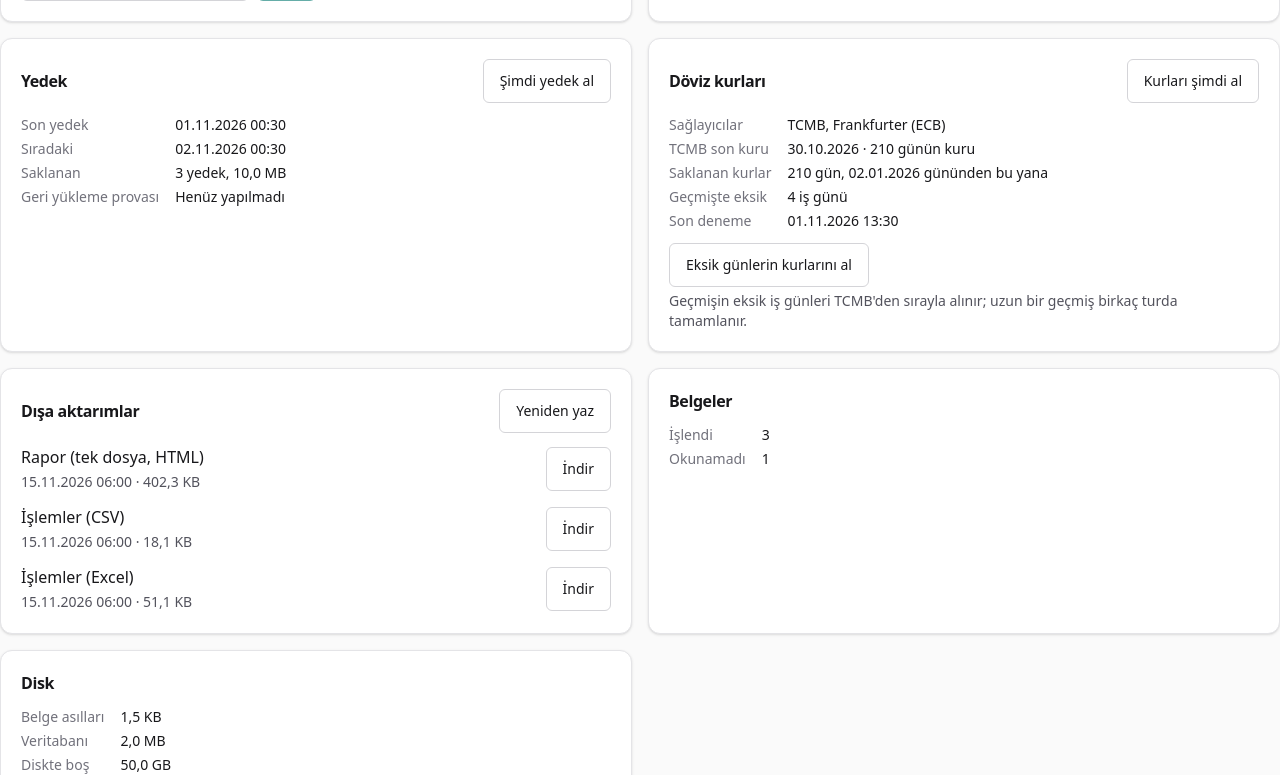
Test: SystemPage › offers the exports the last analysis wrote, each to download, and makes them again on request
(page scrolled)
Click the button "Yeniden yaz".
click(555, 411)  # box [499,389,611,433]
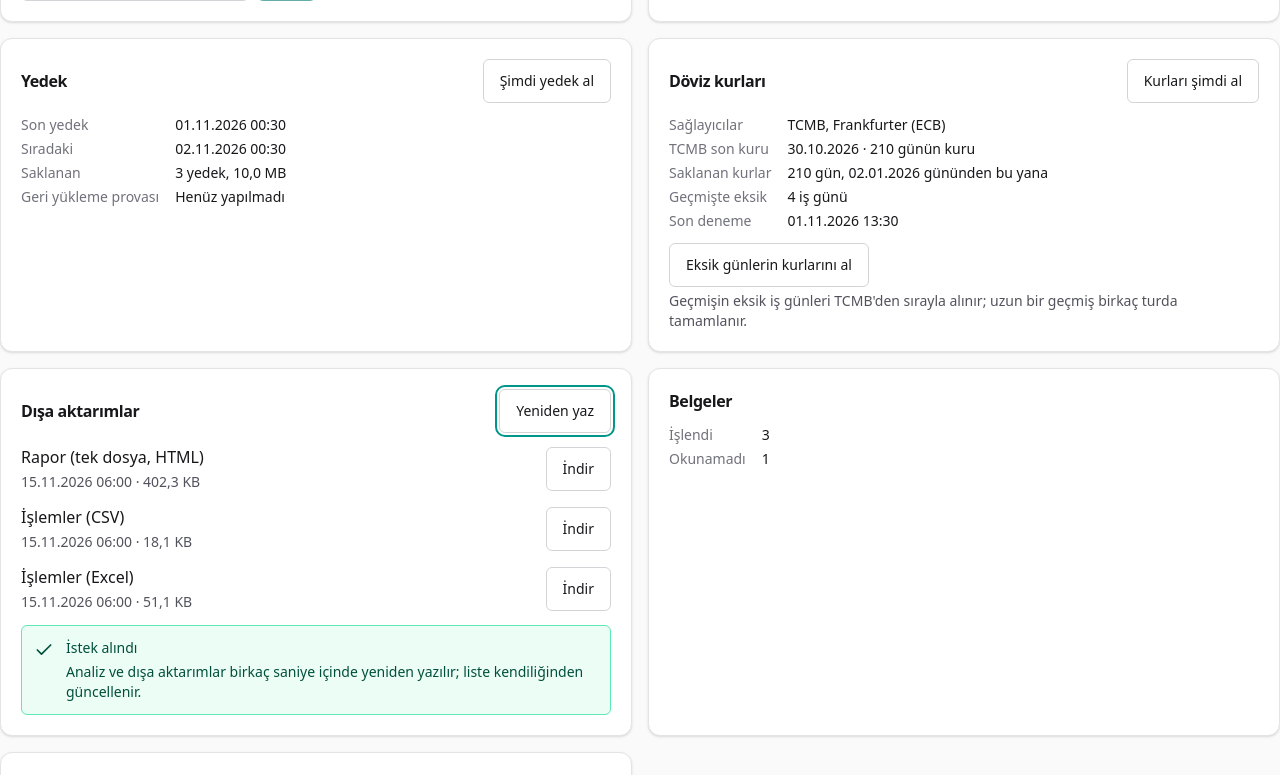
Expected: the text "İstek alındı" is shown, [66,638,138,657]
